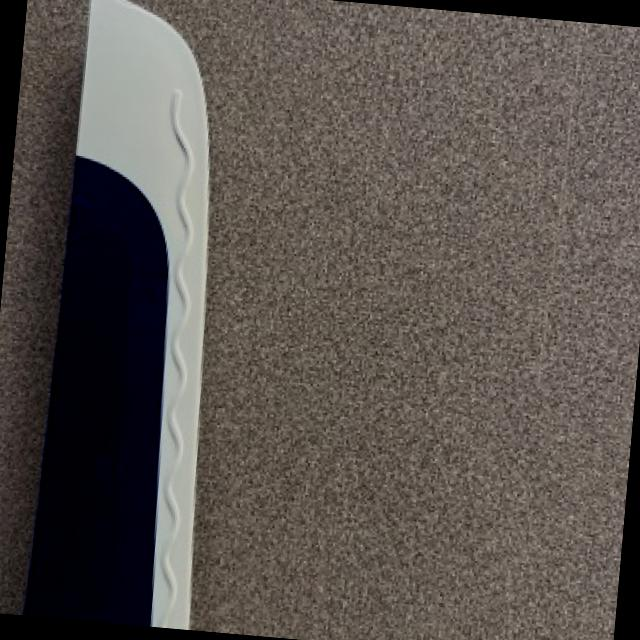healthy: (22, 0, 206, 627)
